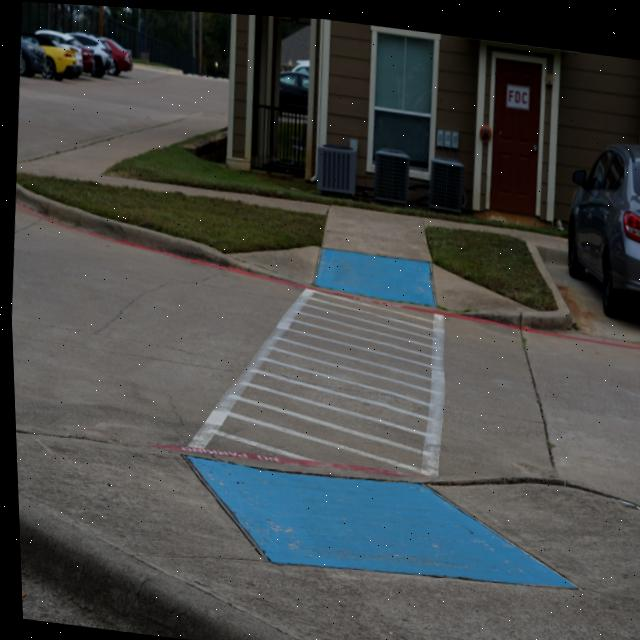Automobile: (565, 136, 640, 308), (19, 28, 132, 78), (280, 62, 308, 101)
Road: (9, 200, 640, 499)
Sidewalk: (13, 432, 640, 640), (15, 111, 571, 322), (423, 213, 564, 245)
